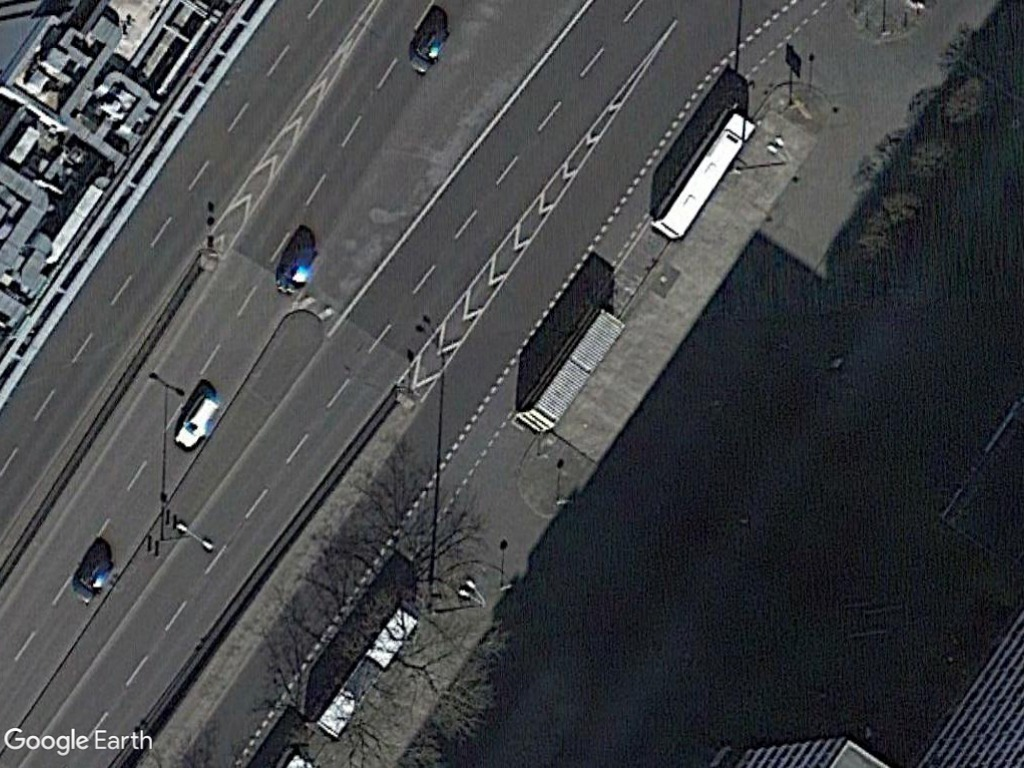bus: (644, 107, 768, 244), (311, 602, 420, 740)
car: (168, 391, 224, 452)
longvehicle: (506, 299, 635, 439)
